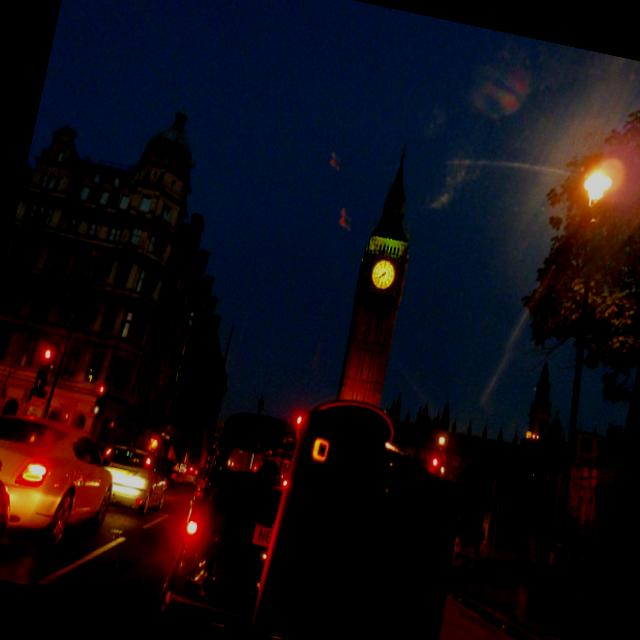Vehicle: (154, 399, 300, 633), (0, 402, 129, 554), (94, 442, 172, 519), (0, 416, 29, 578)
